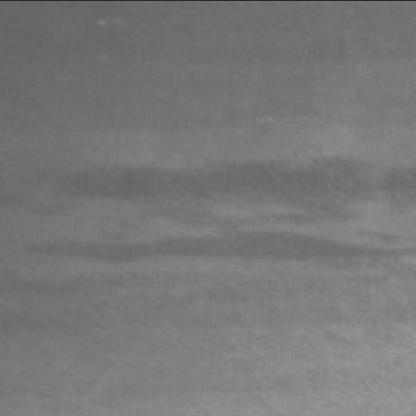inclusion: (18, 154, 410, 260)
